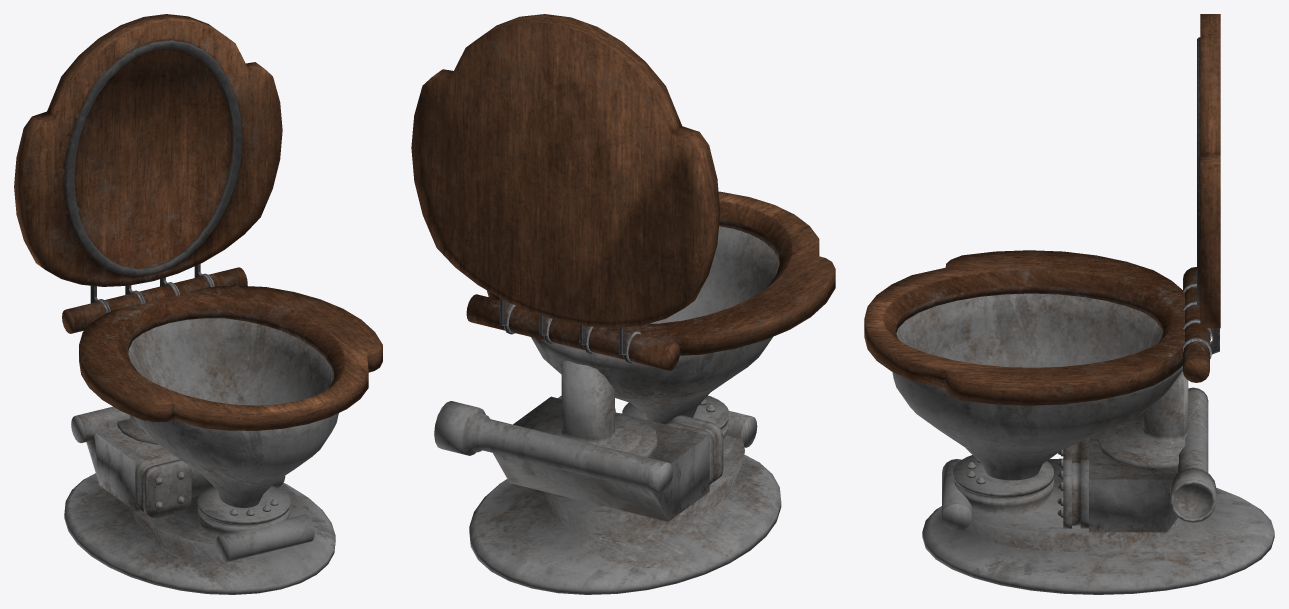
Rendered from toilet.glb.
The picture shows the model from 3 angles, left to right: view 1: azimuth 30°, elevation 25°; view 2: azimuth 150°, elevation 25°; view 3: azimuth 270°, elevation 25°; orthographic projection. The views are drawn at different scales.
Parts seen in each view (by area): view 1: zachod.002; view 2: zachod.002; view 3: zachod.002.
Part boxes in pixels (left/top/right/bottom): zachod.002: left=14, top=14, right=382, bottom=594; zachod.002: left=411, top=14, right=835, bottom=594; zachod.002: left=864, top=14, right=1274, bottom=594.
Bounding box in the file's own units: 0.7182 × 1.25 × 0.9085.
1 material, 1 textured.
